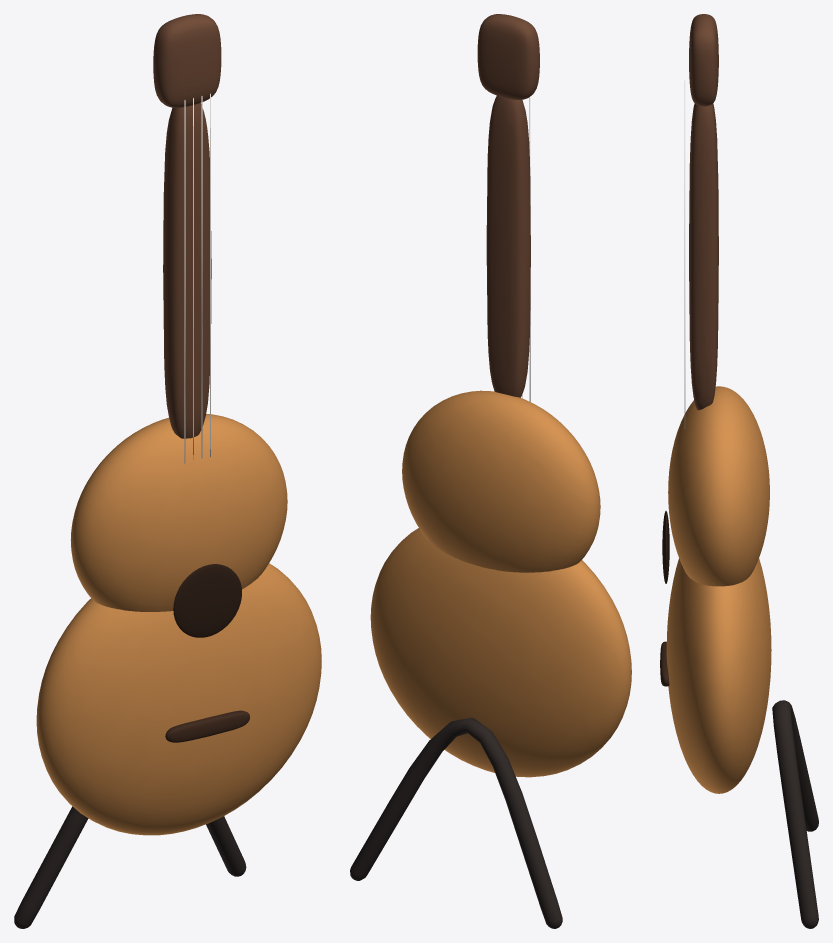
Rendered from deco_guitarra.glb.
The picture shows the model from 3 angles, left to right: view 1: azimuth 30°, elevation 25°; view 2: azimuth 150°, elevation 25°; view 3: azimuth 270°, elevation 25°; orthographic projection. The views are drawn at different scales.
Visible parts, largest first — view 1: caja baja.001, caja alta.001, mástil.001, clavijero.001, boca.001, soporte.001, puente.001, cuerda 0.001, cuerda 2.001; view 2: caja baja.001, caja alta.001, mástil.001, soporte.001, clavijero.001; view 3: caja baja.001, caja alta.001, mástil.001, soporte.001, clavijero.001, cuerda 3.001, boca.001.
Boxes of the visible parts, left/top/right/bottom form: caja baja.001: left=36, top=563, right=321, bottom=835; caja alta.001: left=70, top=414, right=287, bottom=611; mástil.001: left=163, top=103, right=211, bottom=438; clavijero.001: left=153, top=14, right=221, bottom=107; boca.001: left=173, top=564, right=241, bottom=637; soporte.001: left=14, top=806, right=246, bottom=928; puente.001: left=165, top=710, right=249, bottom=742; cuerda 0.001: left=184, top=100, right=185, bottom=463; cuerda 2.001: left=201, top=96, right=202, bottom=458; caja baja.001: left=370, top=528, right=631, bottom=777; caja alta.001: left=402, top=390, right=600, bottom=572; mástil.001: left=486, top=95, right=530, bottom=397; soporte.001: left=350, top=717, right=562, bottom=928; clavijero.001: left=477, top=14, right=539, bottom=99; caja baja.001: left=666, top=558, right=771, bottom=793; caja alta.001: left=668, top=386, right=769, bottom=586; mástil.001: left=689, top=103, right=718, bottom=410; soporte.001: left=772, top=700, right=818, bottom=928; clavijero.001: left=689, top=14, right=718, bottom=106; cuerda 3.001: left=684, top=92, right=685, bottom=429; boca.001: left=662, top=511, right=669, bottom=583.
Bounding box in the file's own units: 0.3958 × 1.25 × 0.2098.
